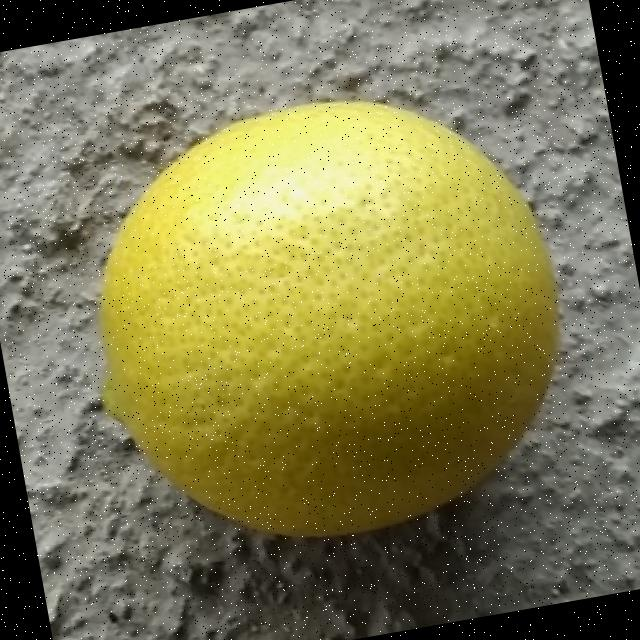Ripe: (54, 61, 596, 577)
